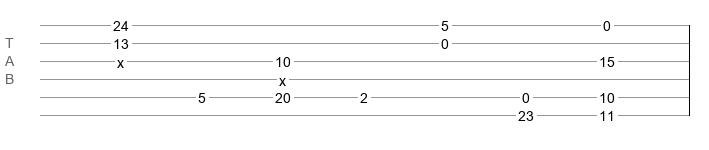0: (441, 36, 449, 46), (522, 90, 530, 100), (603, 18, 611, 28)
10: (275, 54, 291, 64), (599, 90, 615, 100)
11: (599, 108, 615, 118)
13: (113, 36, 129, 46)
15: (599, 54, 615, 64)
2: (360, 90, 368, 100)
20: (275, 90, 291, 100)
23: (518, 108, 534, 118)
24: (113, 18, 129, 28)
5: (198, 90, 206, 100), (441, 18, 449, 28)
x: (117, 55, 124, 63), (279, 73, 286, 81)
